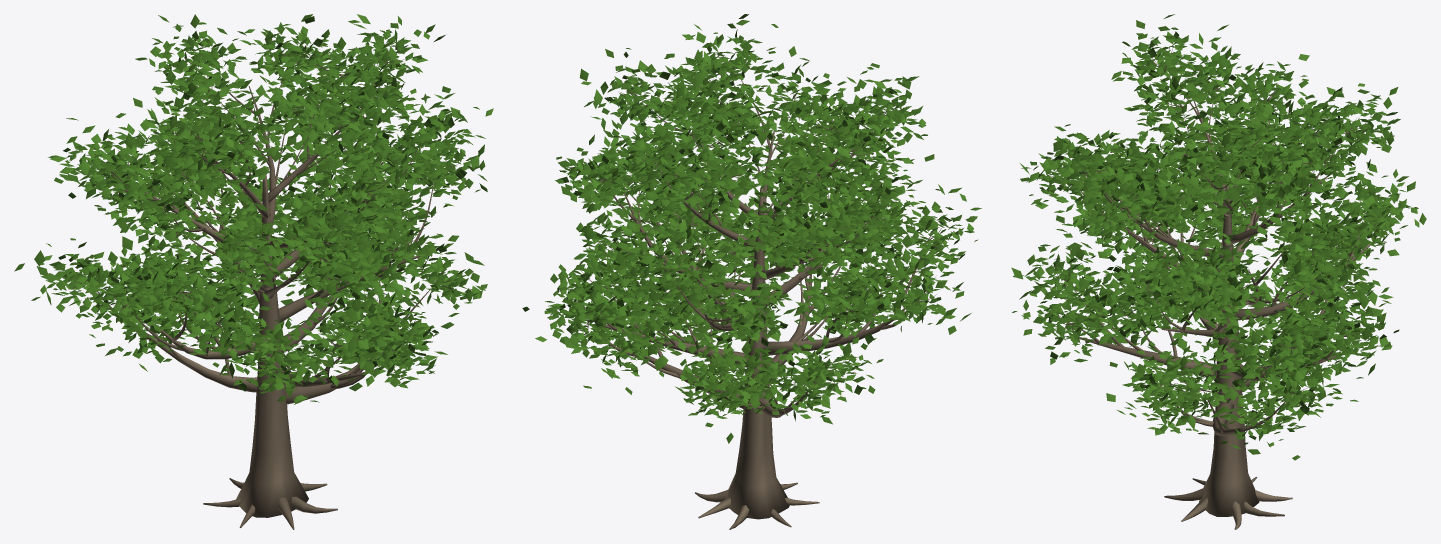
Rendered from broadleaf_spreading_static.glb.
The picture shows the model from 3 angles, left to right: view 1: azimuth 30°, elevation 25°; view 2: azimuth 150°, elevation 25°; view 3: azimuth 270°, elevation 25°; orthographic projection. The views are drawn at different scales.
Parts seen in each view (by area): view 1: broadleaf_spreading_leaves.012, broadleaf_spreading_bark.012; view 2: broadleaf_spreading_leaves.012, broadleaf_spreading_bark.012; view 3: broadleaf_spreading_leaves.012, broadleaf_spreading_bark.012.
Part boxes in pixels (x1,y1,x2,y2): broadleaf_spreading_leaves.012: [14, 14, 493, 404]; broadleaf_spreading_bark.012: [72, 49, 457, 529]; broadleaf_spreading_leaves.012: [522, 14, 981, 443]; broadleaf_spreading_bark.012: [573, 52, 946, 529]; broadleaf_spreading_leaves.012: [1011, 14, 1426, 460]; broadleaf_spreading_bark.012: [1046, 44, 1377, 529].
Bounding box in the file's own units: 15.79 × 16.57 × 14.35.
